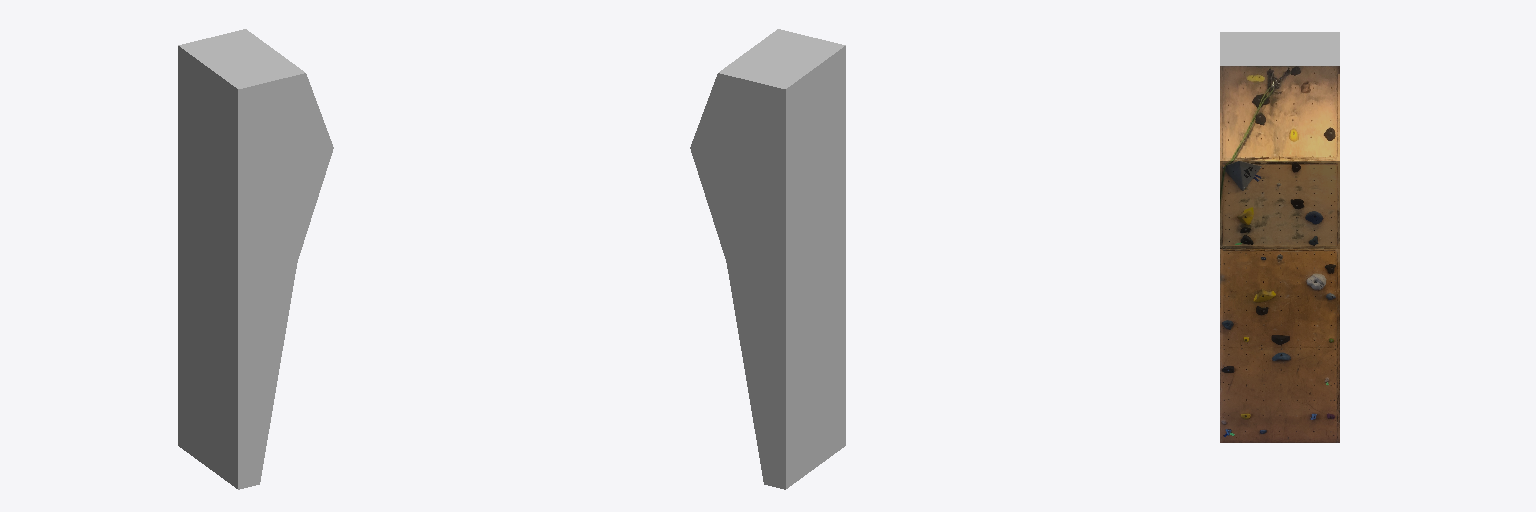
The picture shows the model from 3 angles: view 1: azimuth 30°, elevation 25°; view 2: azimuth 150°, elevation 25°; view 3: azimuth 270°, elevation 25°; orthographic projection.
Parts seen in each view (by area): view 1: Cube_Cube.001; view 2: Cube_Cube.001; view 3: Cube_Cube.001.
Boxes of the visible parts, x1=… form: Cube_Cube.001: x1=178, y1=29, x2=333, y2=489; Cube_Cube.001: x1=690, y1=29, x2=845, y2=489; Cube_Cube.001: x1=1220, y1=32, x2=1339, y2=442.
Size of the model in its own units: 1.1 by 4.4 by 1.2.
Materials: 2 (1 with a texture image).